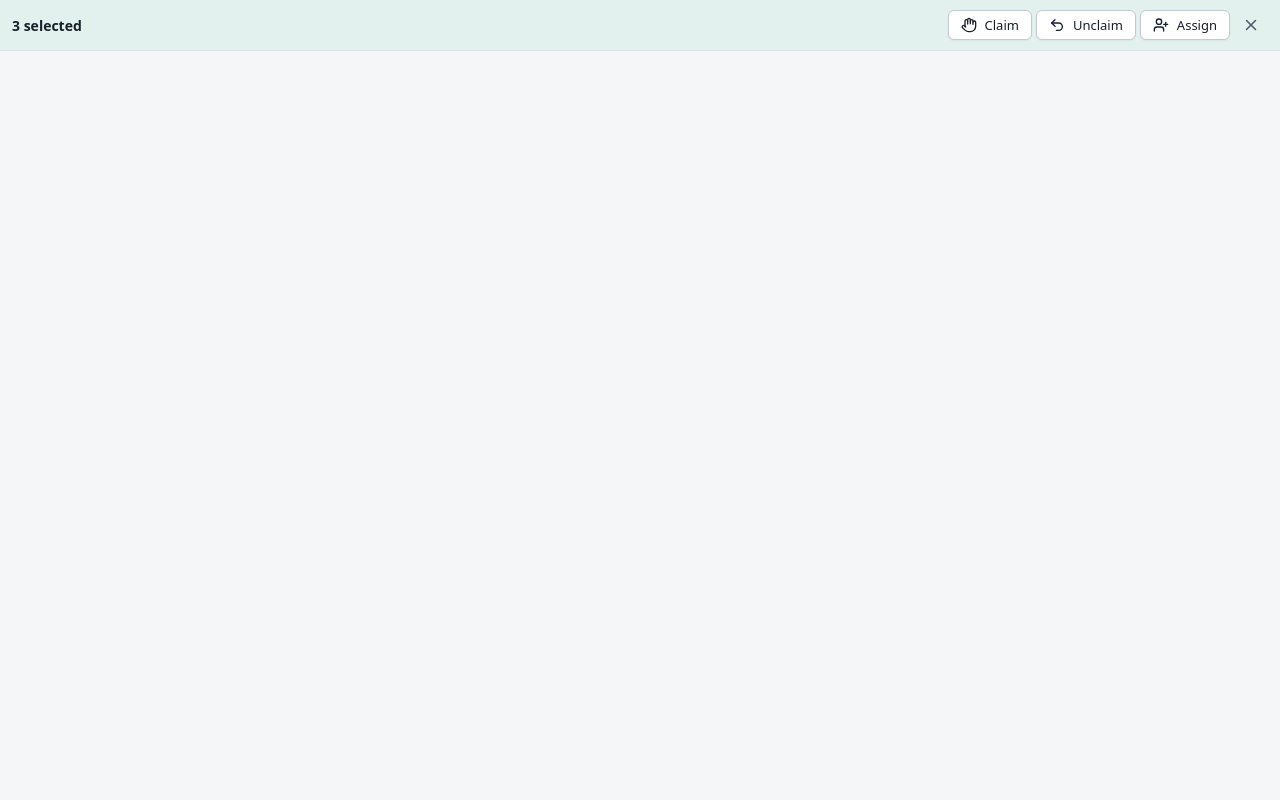
Test: bulk task changes › assigns all tasks to a user and reports tasks that failed
Click the button "Assign" at (1185, 25), box [1140,10,1230,40]
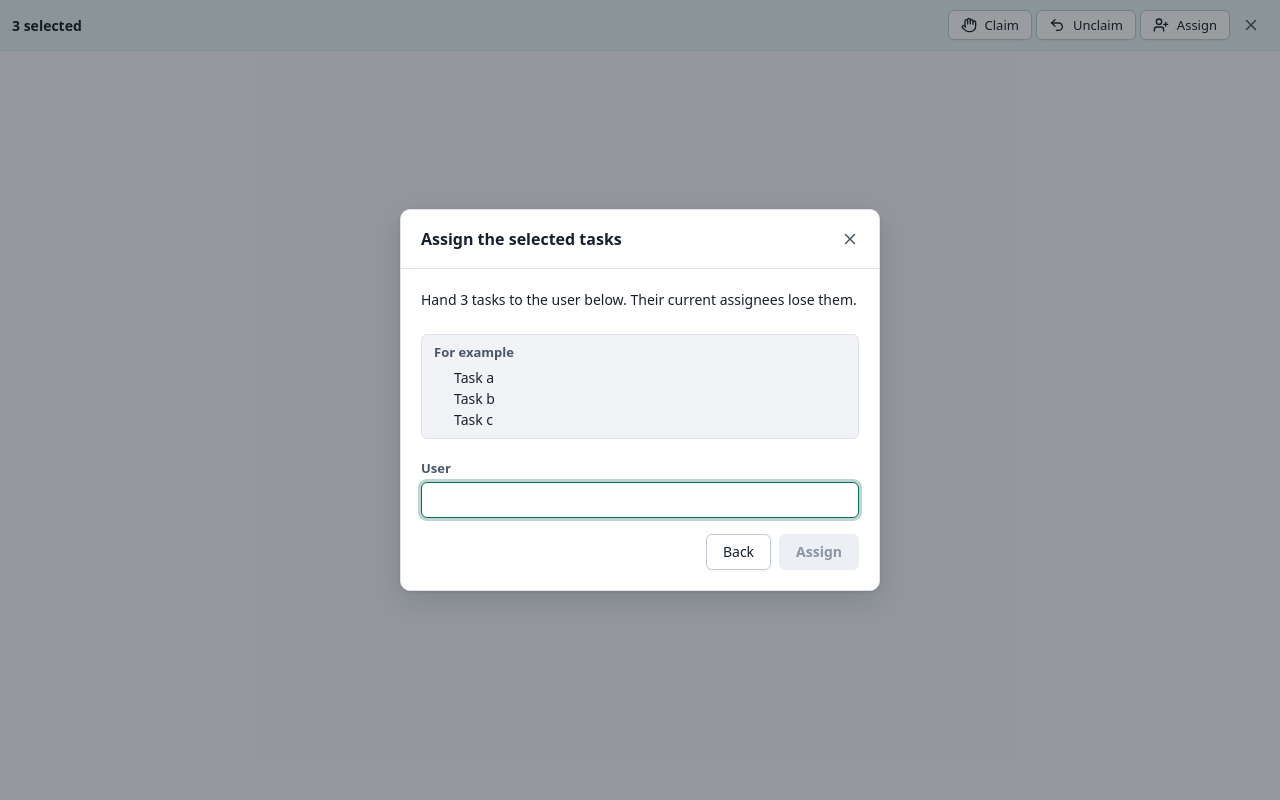
Expected: the button "Assign" is disabled, [779,534,859,570]
Type "john" into the field labelled "User" at (640, 500), box [421,482,859,518]
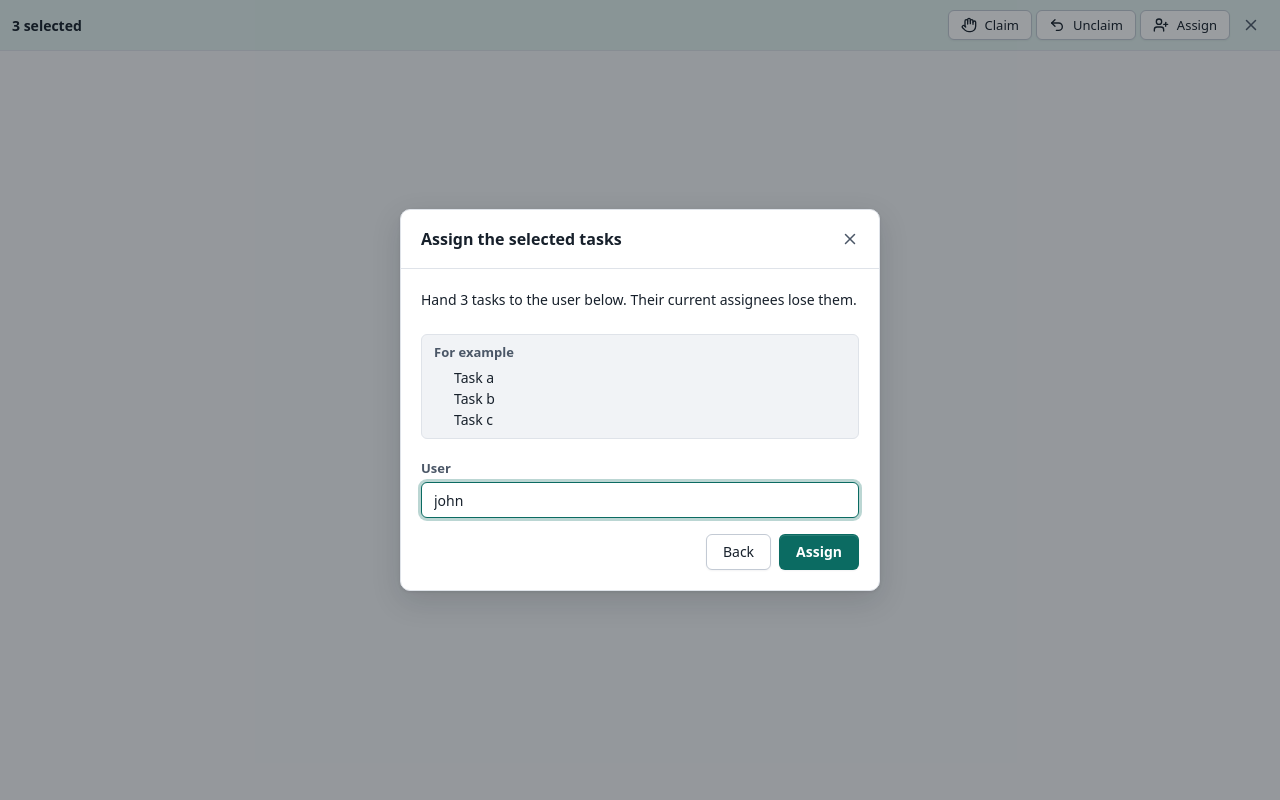
Click the button "Assign" at (819, 552), box [779,534,859,570]
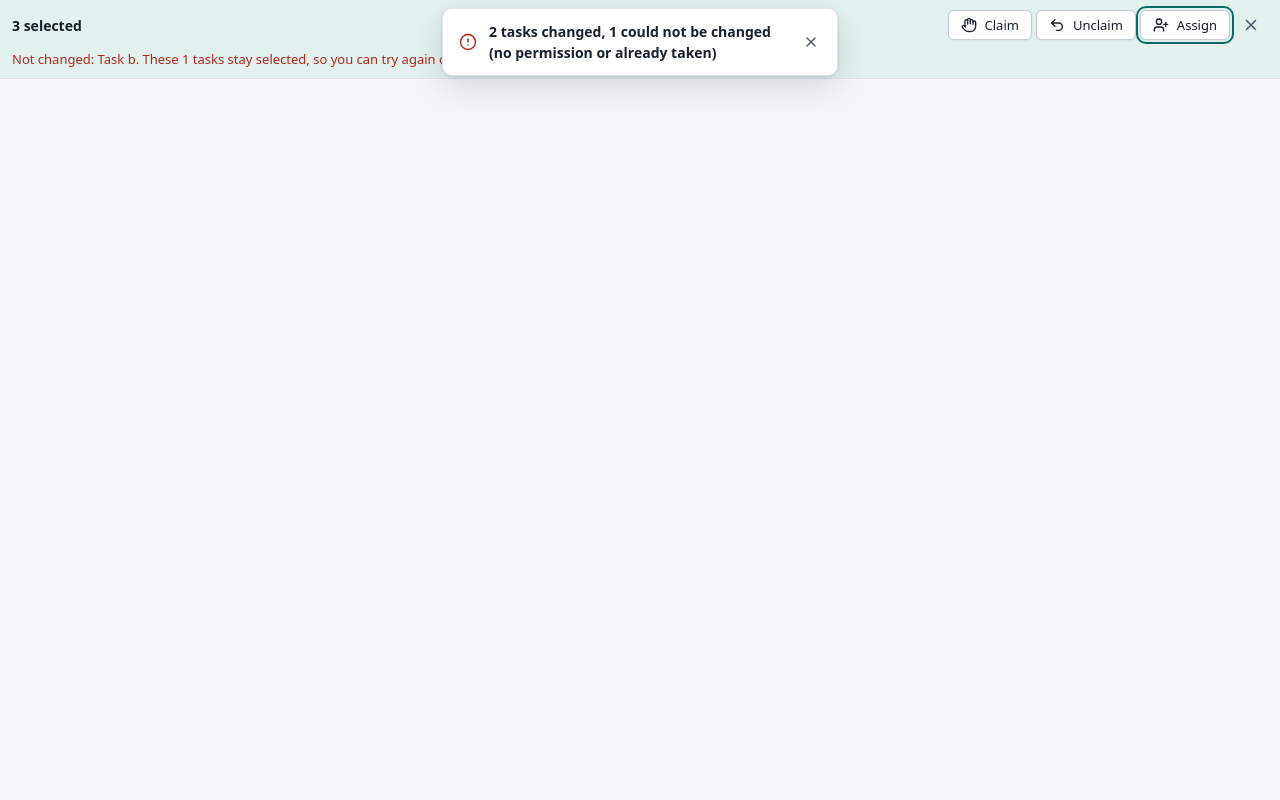
Expected: the text "2 tasks changed, 1 could not be changed" is shown, [489,22,771,62]
Expected: the text "Not changed: Task b" is shown, [12,50,607,68]
